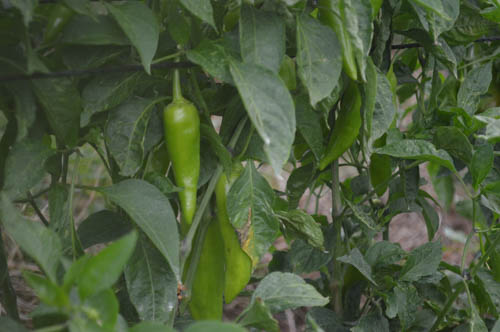ChiliPepper: (214, 169, 256, 303), (317, 80, 364, 172), (165, 105, 202, 216), (192, 225, 223, 324), (324, 6, 360, 78)
